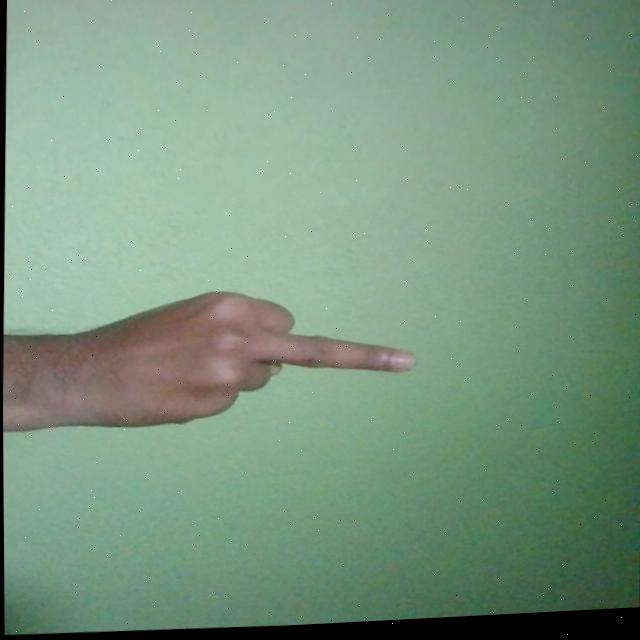Middle Finger: (20, 281, 419, 438)
